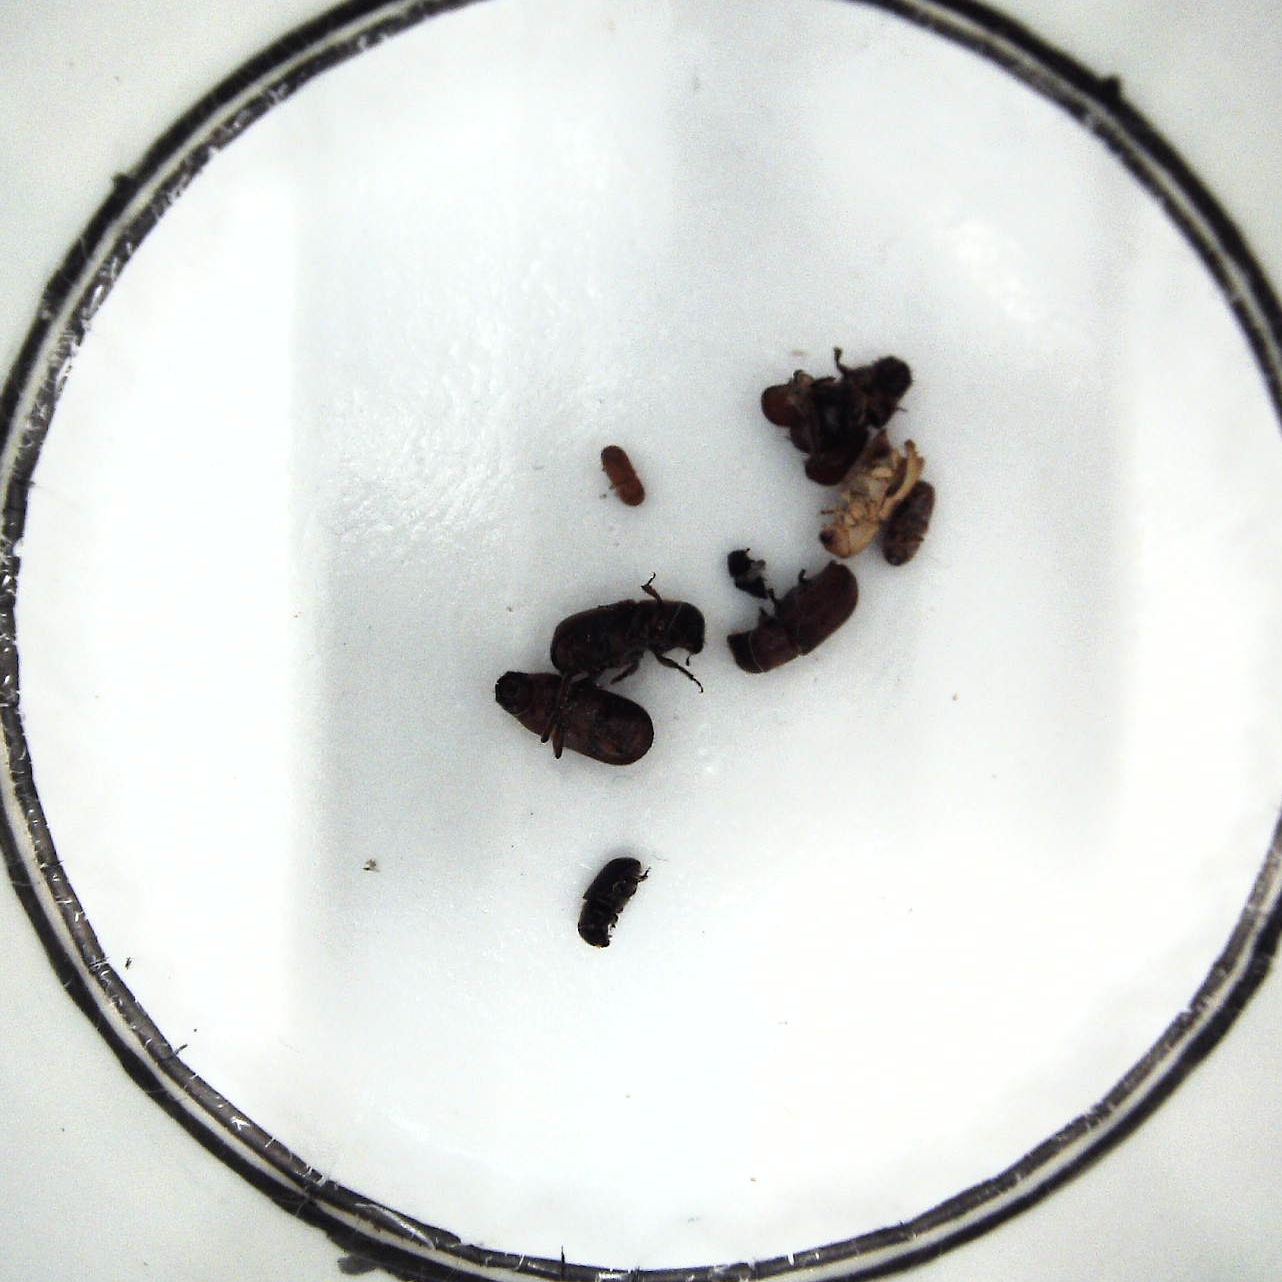Boerner: (821, 432, 919, 556)
Leconte: (760, 348, 913, 483), (546, 579, 708, 688), (495, 669, 654, 768), (724, 567, 861, 675)
Linnaeus: (885, 483, 938, 569)
acuminatus: (598, 445, 647, 511)
armandi: (576, 853, 649, 951)
coleoptera: (723, 542, 771, 600)
